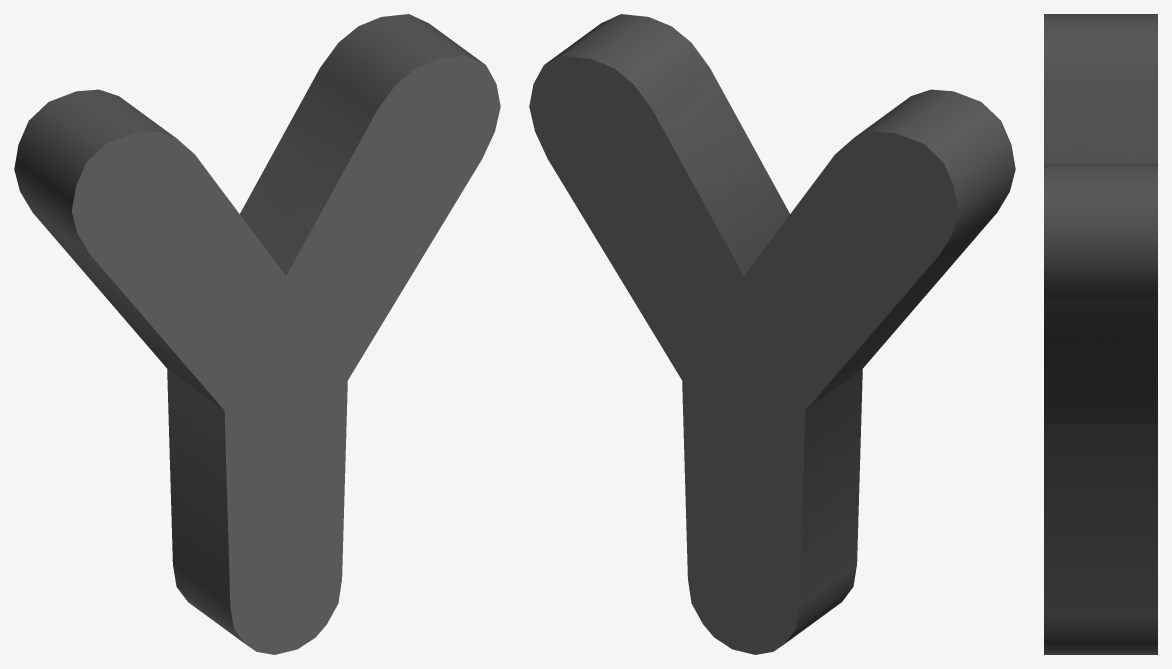
The model's file is ENV1610025.fbx.
The picture shows the model from 3 angles, left to right: view 1: azimuth 30°, elevation 25°; view 2: azimuth 150°, elevation 25°; view 3: azimuth 270°, elevation 25°; orthographic projection.
Parts seen in each view (by area): view 1: smENV1610025; view 2: smENV1610025; view 3: smENV1610025.
Boxes of the visible parts, x1=… form: smENV1610025: x1=14, y1=14, x2=500, y2=654; smENV1610025: x1=529, y1=14, x2=1015, y2=654; smENV1610025: x1=1044, y1=14, x2=1157, y2=654.
Size of the model in its own units: 0.9488 by 1.18 by 0.22.
1 material, 1 textured.
